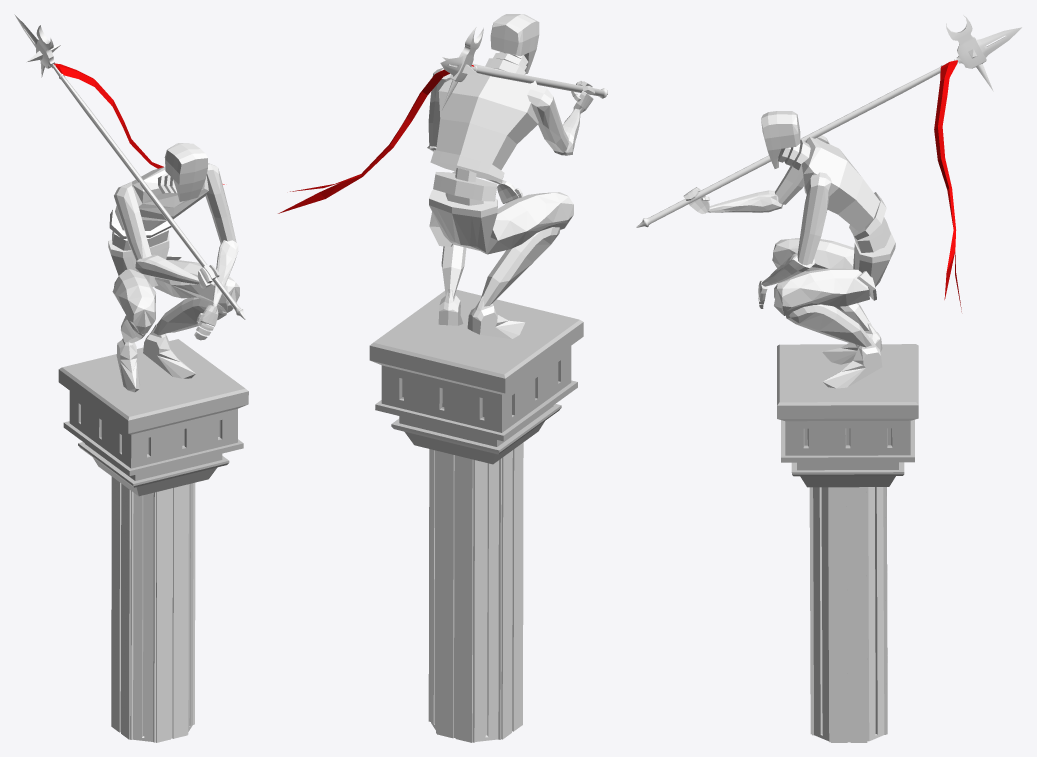
File: the_watcher.glb
The picture shows the model from 3 angles, left to right: view 1: azimuth 30°, elevation 25°; view 2: azimuth 150°, elevation 25°; view 3: azimuth 270°, elevation 25°; orthographic projection. The views are drawn at different scales.
Parts seen in each view (by area): view 1: Cube.001, Cube, Cube.004, Cube.012, Cube.013, Cube.011, Cube.020, Cube.009, Cube.014, Cube.006, Plane.002; view 2: Cube.001, Cube, Cube.009, Cube.012, Cube.006, Cube.013, Cube.020, Cube.004, Cube.014, Plane.002, Cube.011, Cube.010; view 3: Cube.001, Cube, Cube.004, Cube.020, Cube.009, Cube.011, Cube.012, Cube.013, Cube.006, Plane.002, Cube.014.
Part boxes in pixels (<box>): Cube.001: <box>111,476,195,742</box>; Cube: <box>58,339,248,496</box>; Cube.004: <box>143,254,239,378</box>; Cube.012: <box>112,269,155,392</box>; Cube.013: <box>114,182,219,289</box>; Cube.011: <box>194,163,238,340</box>; Cube.020: <box>14,14,245,319</box>; Cube.009: <box>115,167,208,230</box>; Cube.014: <box>164,143,207,201</box>; Cube.006: <box>108,208,174,286</box>; Plane.002: <box>54,63,224,184</box>; Cube.001: <box>428,442,523,742</box>; Cube: <box>369,290,583,464</box>; Cube.009: <box>436,63,538,169</box>; Cube.012: <box>467,192,573,338</box>; Cube.006: <box>429,150,504,252</box>; Cube.013: <box>527,81,594,155</box>; Cube.020: <box>440,27,607,110</box>; Cube.004: <box>429,171,476,325</box>; Cube.014: <box>490,14,539,73</box>; Plane.002: <box>278,65,473,213</box>; Cube.011: <box>427,68,523,204</box>; Cube.010: <box>485,51,528,74</box>; Cube.001: <box>809,487,887,742</box>; Cube: <box>777,344,918,487</box>; Cube.004: <box>774,268,882,388</box>; Cube.020: <box>636,15,1021,227</box>; Cube.009: <box>801,137,880,231</box>; Cube.011: <box>758,172,831,308</box>; Cube.012: <box>772,238,882,364</box>; Cube.013: <box>683,135,829,213</box>; Cube.006: <box>849,192,895,295</box>; Plane.002: <box>934,60,961,311</box>; Cube.014: <box>761,111,800,168</box>.
Bounding box in the file's own units: 1.99 × 6.84 × 3.5.
